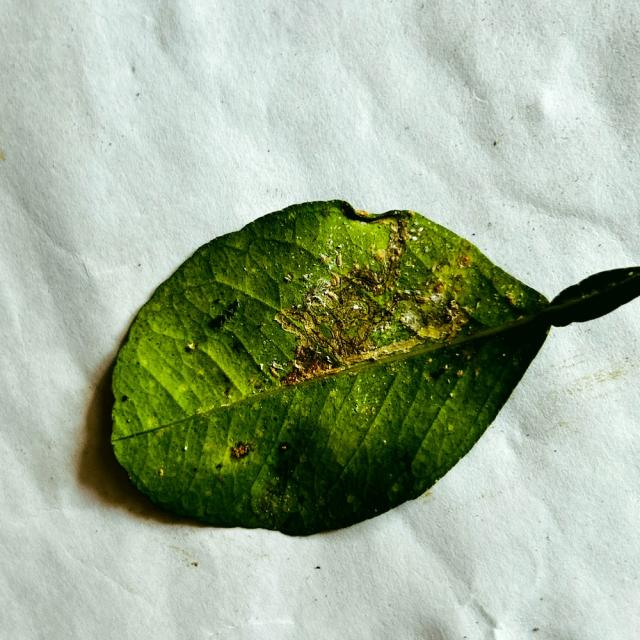Bacterial_Blight: (418, 251, 476, 309), (280, 351, 333, 386), (257, 481, 299, 519), (338, 201, 404, 225), (210, 298, 241, 330), (309, 285, 337, 312), (227, 442, 257, 467), (353, 269, 381, 289), (209, 314, 228, 330), (431, 366, 449, 380), (458, 253, 472, 268), (432, 281, 445, 294), (264, 482, 277, 495), (374, 248, 386, 262), (505, 293, 517, 306), (278, 442, 292, 453), (253, 379, 265, 391), (269, 368, 280, 378), (233, 448, 242, 458), (223, 387, 231, 397), (187, 342, 196, 350), (283, 273, 292, 281), (369, 243, 376, 253), (456, 370, 464, 378), (157, 468, 164, 477), (218, 475, 225, 483), (215, 462, 223, 469), (474, 370, 480, 377), (191, 562, 198, 567), (183, 444, 188, 450)
Lemon: (105, 200, 639, 540)
